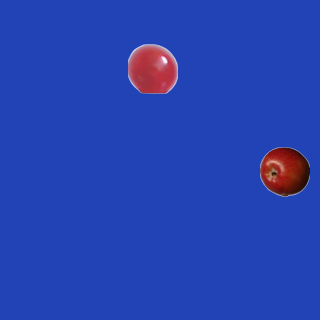Apple Braeburn: (259, 146, 309, 196)
Redcurrant: (127, 43, 177, 93)
